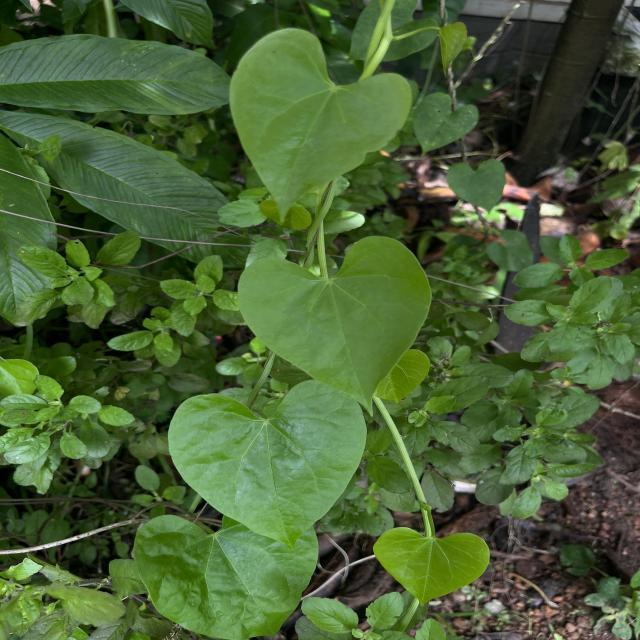Tinospora cordifolia: (232, 232, 438, 424), (226, 22, 416, 226), (164, 376, 371, 554), (128, 507, 325, 640), (372, 522, 494, 610)
